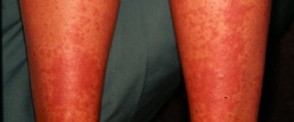SJS-TEN: (17, 0, 126, 122), (168, 0, 276, 122)
